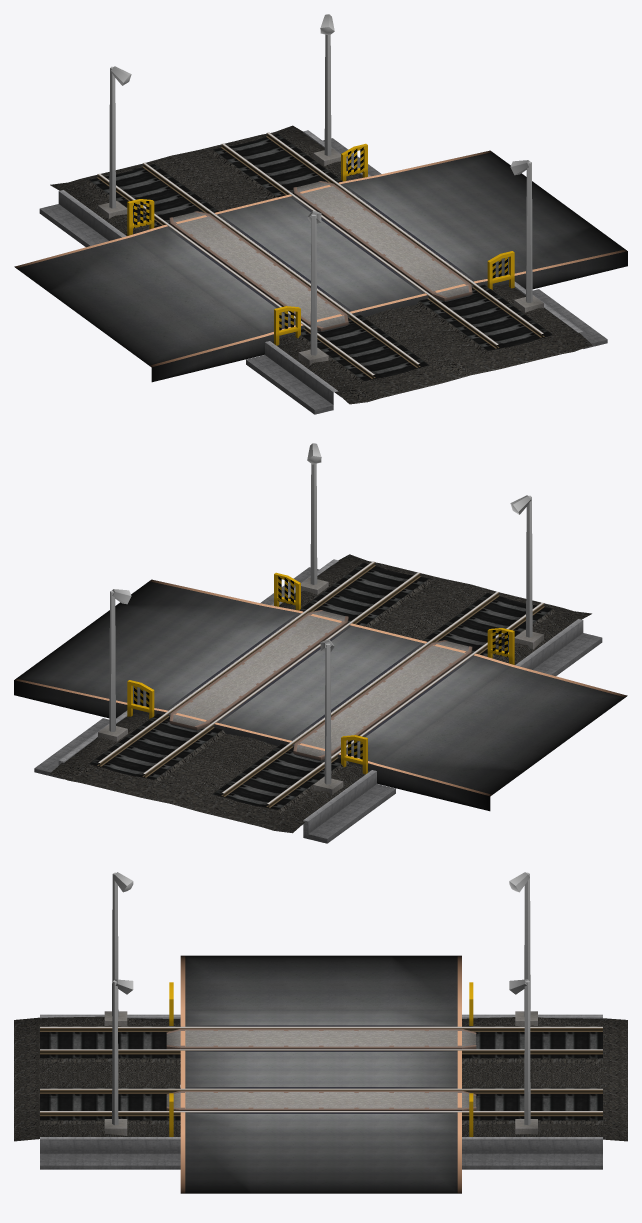
Rendered from KH_RAIL_HUMIKIRI_50.glb.
3 renders of one model, top to bottom at view 1: azimuth 30°, elevation 25°; view 2: azimuth 150°, elevation 25°; view 3: azimuth 270°, elevation 25°, orthographic. The views are drawn at different scales.
Visible parts, largest first — view 1: bone2, Jari_All, bone6, bone1; view 2: bone2, Jari_All, bone1, bone6; view 3: bone2, Jari_All, bone1, bone6.
Part boxes in pixels (x1,y1,x2,y2): bone2: (14,150,627,382); Jari_All: (39,125,607,414); bone6: (274,160,543,365); bone1: (98,14,367,235); bone2: (14,579,627,811); Jari_All: (34,554,602,843); bone1: (98,589,367,795); bone6: (274,443,543,664); bone2: (166,955,476,1193); Jari_All: (14,1014,627,1169); bone1: (469,872,537,1136); bone6: (104,872,173,1136).
Size of the model in its own units: 50 by 16.65 by 54.53.
Materials: 17 (13 with a texture image).
